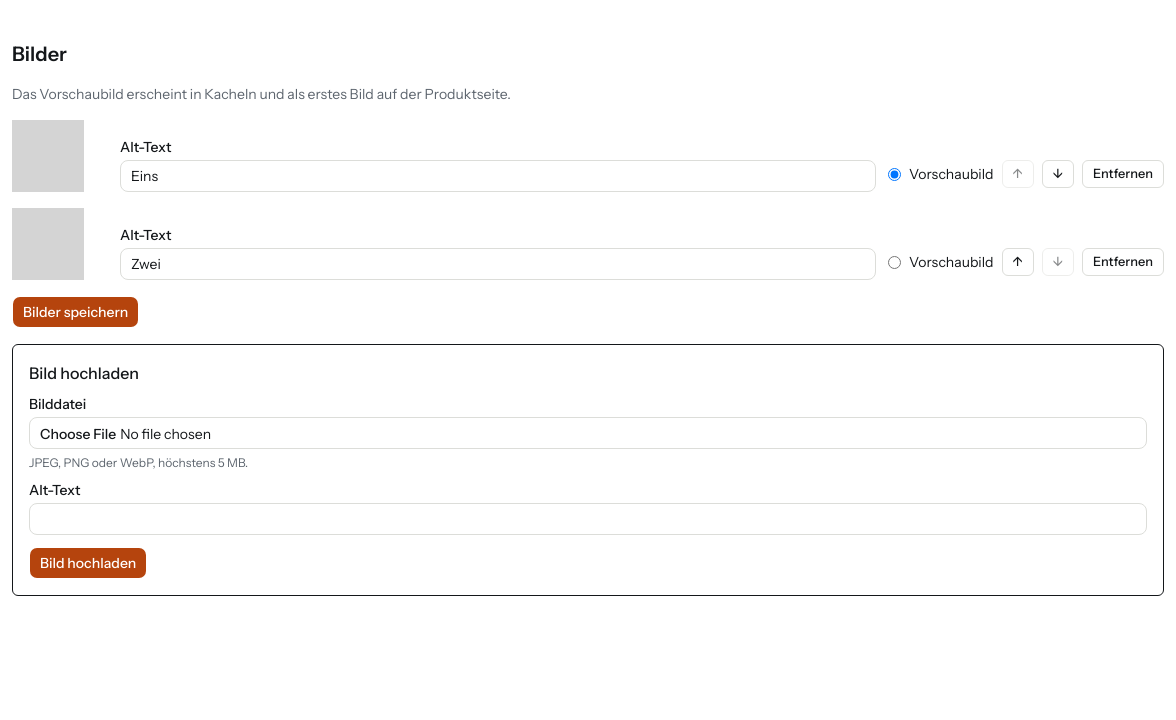
ImageSection error display › shows row, thumbnail and form errors with aria wiring
Click the button "Bilder speichern".
click(76, 312)  # box [12, 296, 139, 328]
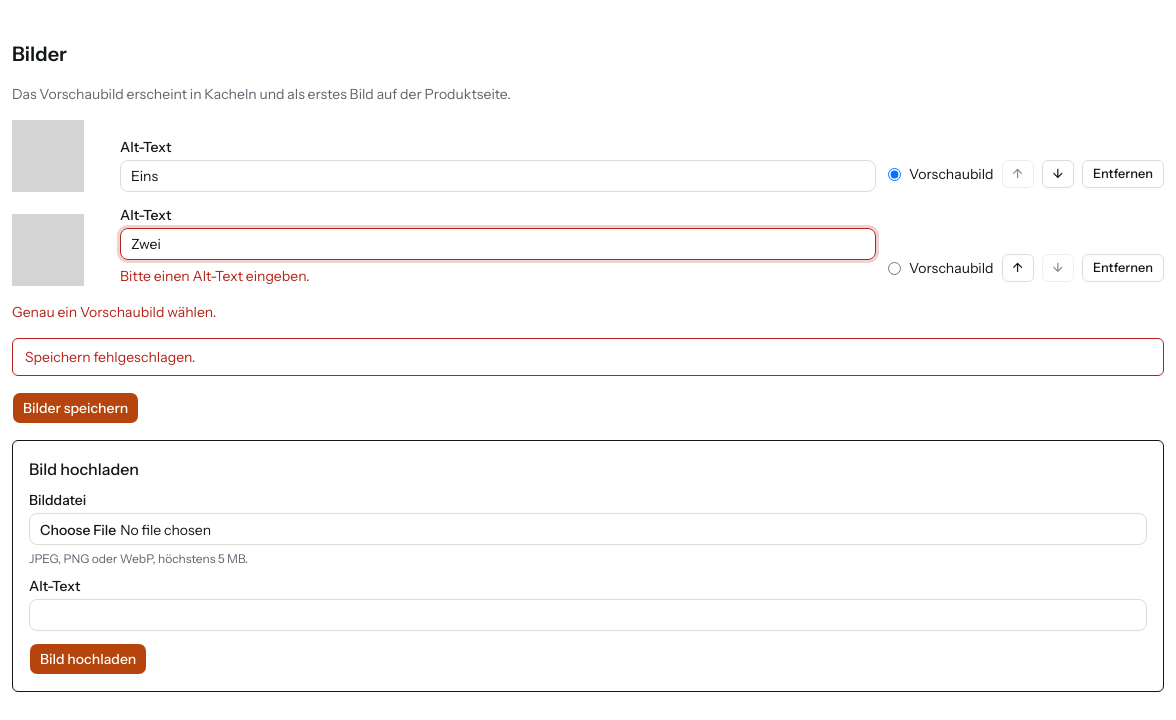
Result: the text "Bitte einen Alt-Text eingeben." is shown at [120, 267, 310, 285]
Result: the message "Genau ein Vorschaubild wählen." is shown at [12, 303, 216, 321]
Result: the message "Speichern fehlgeschlagen." is shown at [12, 338, 1164, 376]
